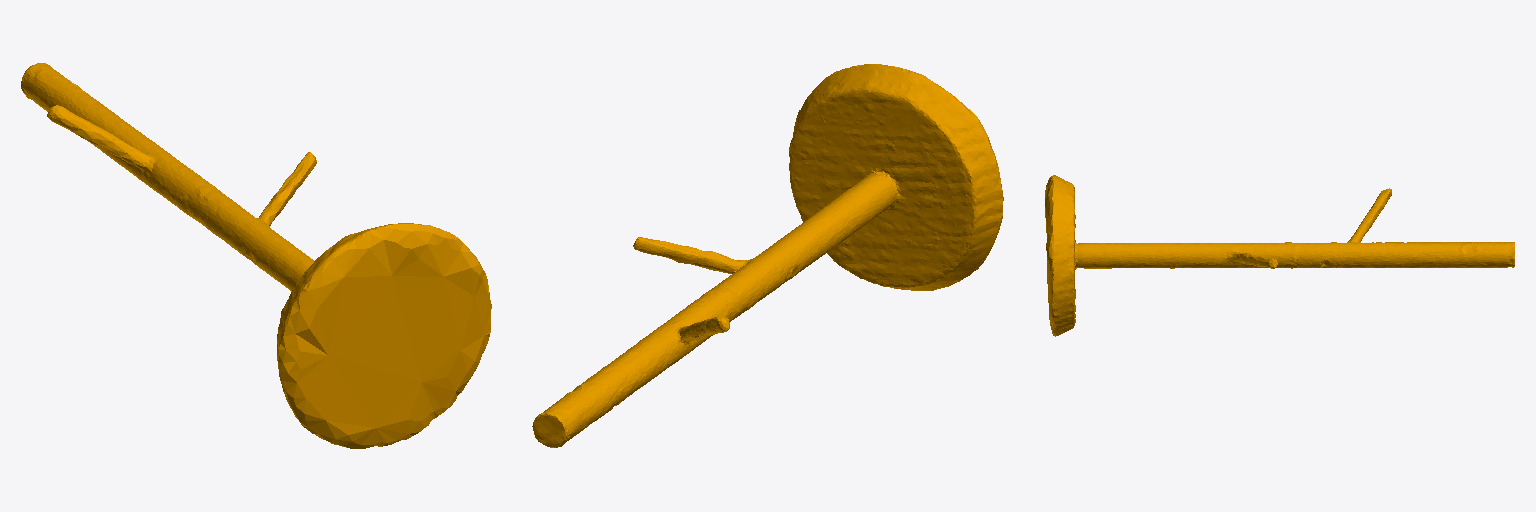
The robot description file, URDF, robot "rack":
<?xml version="1.0"?>
<robot name="rack">
    <link name="rack">
        <visual>
            <geometry>
                <mesh filename="../mesh/mug_rack/mugrack2/mugrack2.obj" scale="1 1 1"/>
            </geometry>
        </visual>
        <collision>
            <geometry>
                <mesh filename="../mesh/mug_rack/mugrack2/mugrack2.obj" scale="1 1 1"/>
            </geometry>
            <sdf resolution="512"/>
        </collision>
    </link>
</robot>

--- Render facts (derived) ---
3 views of the same robot in one strip: view 1: azimuth 30°, elevation 25°; view 2: azimuth 150°, elevation 25°; view 3: azimuth 270°, elevation 25° (orthographic).
Robot: rack — 1 links, 0 joints (none); root link rack; default pose: all joints at 0.
Links seen in each view (by area): view 1: rack; view 2: rack; view 3: rack.
Boxes of the visible links, left/top/right/bottom form: rack: left=21, top=63, right=491, bottom=448; rack: left=532, top=64, right=1003, bottom=447; rack: left=1045, top=175, right=1514, bottom=336.
Size in the robot's own frame: 0.1399 by 0.4064 by 0.1394 metres.
1 mesh visuals loaded from 1 distinct referenced files (1 OBJ).
